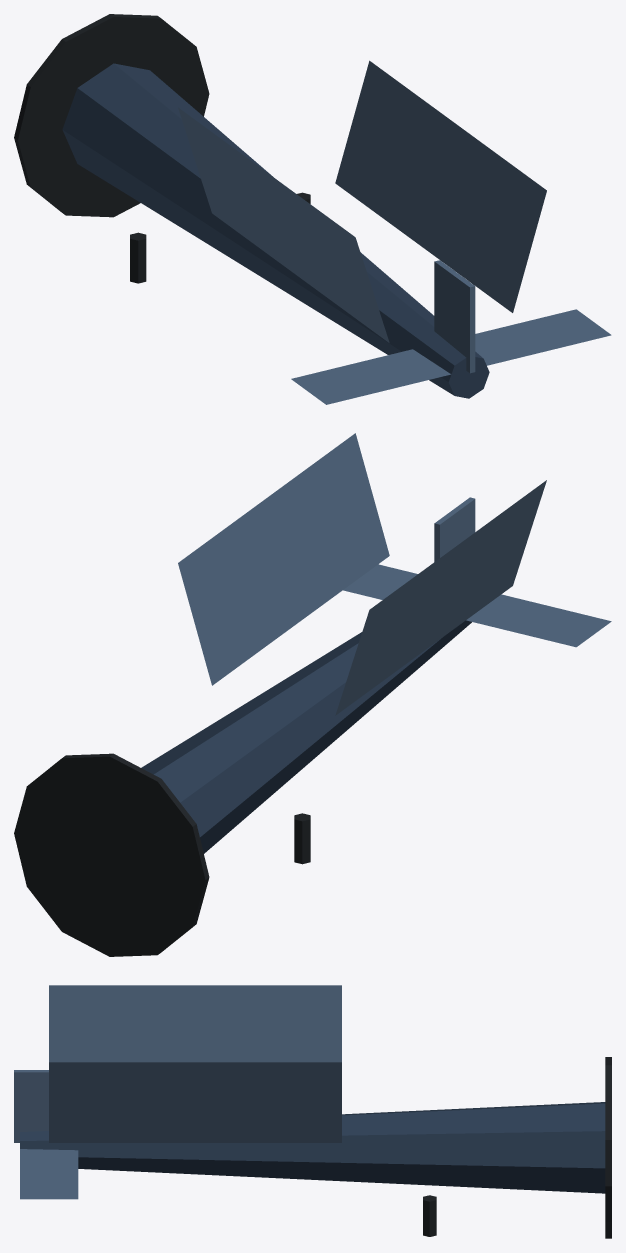
The model's file is plane_us_fighter_folded.glb.
The picture shows the model from 3 angles, top to bottom: view 1: azimuth 30°, elevation 25°; view 2: azimuth 150°, elevation 25°; view 3: azimuth 270°, elevation 25°; orthographic projection. The views are drawn at different scales.
Visible parts, largest first — view 1: Hull; view 2: Hull; view 3: Hull.
Boxes of the visible parts, bbox=[...] form: Hull: bbox=[14, 14, 611, 404]; Hull: bbox=[14, 433, 611, 956]; Hull: bbox=[14, 985, 611, 1238].
Size of the model in its own units: 4.18 by 3.5 by 9.19.
